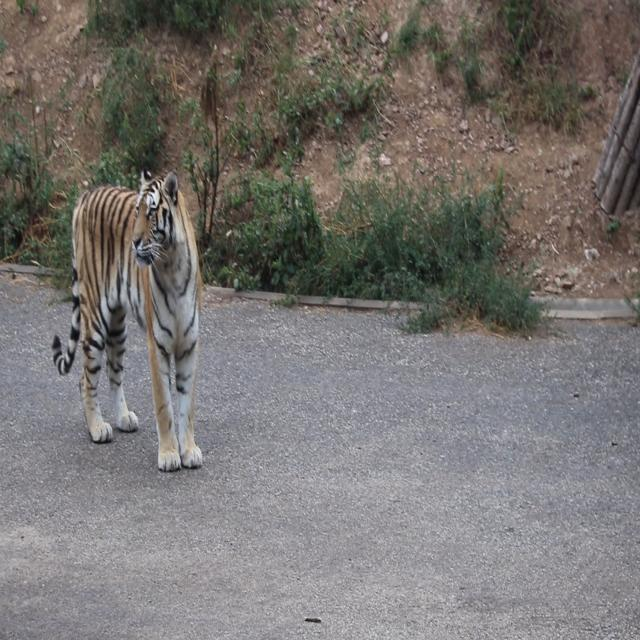Tiger: (56, 158, 234, 480)
